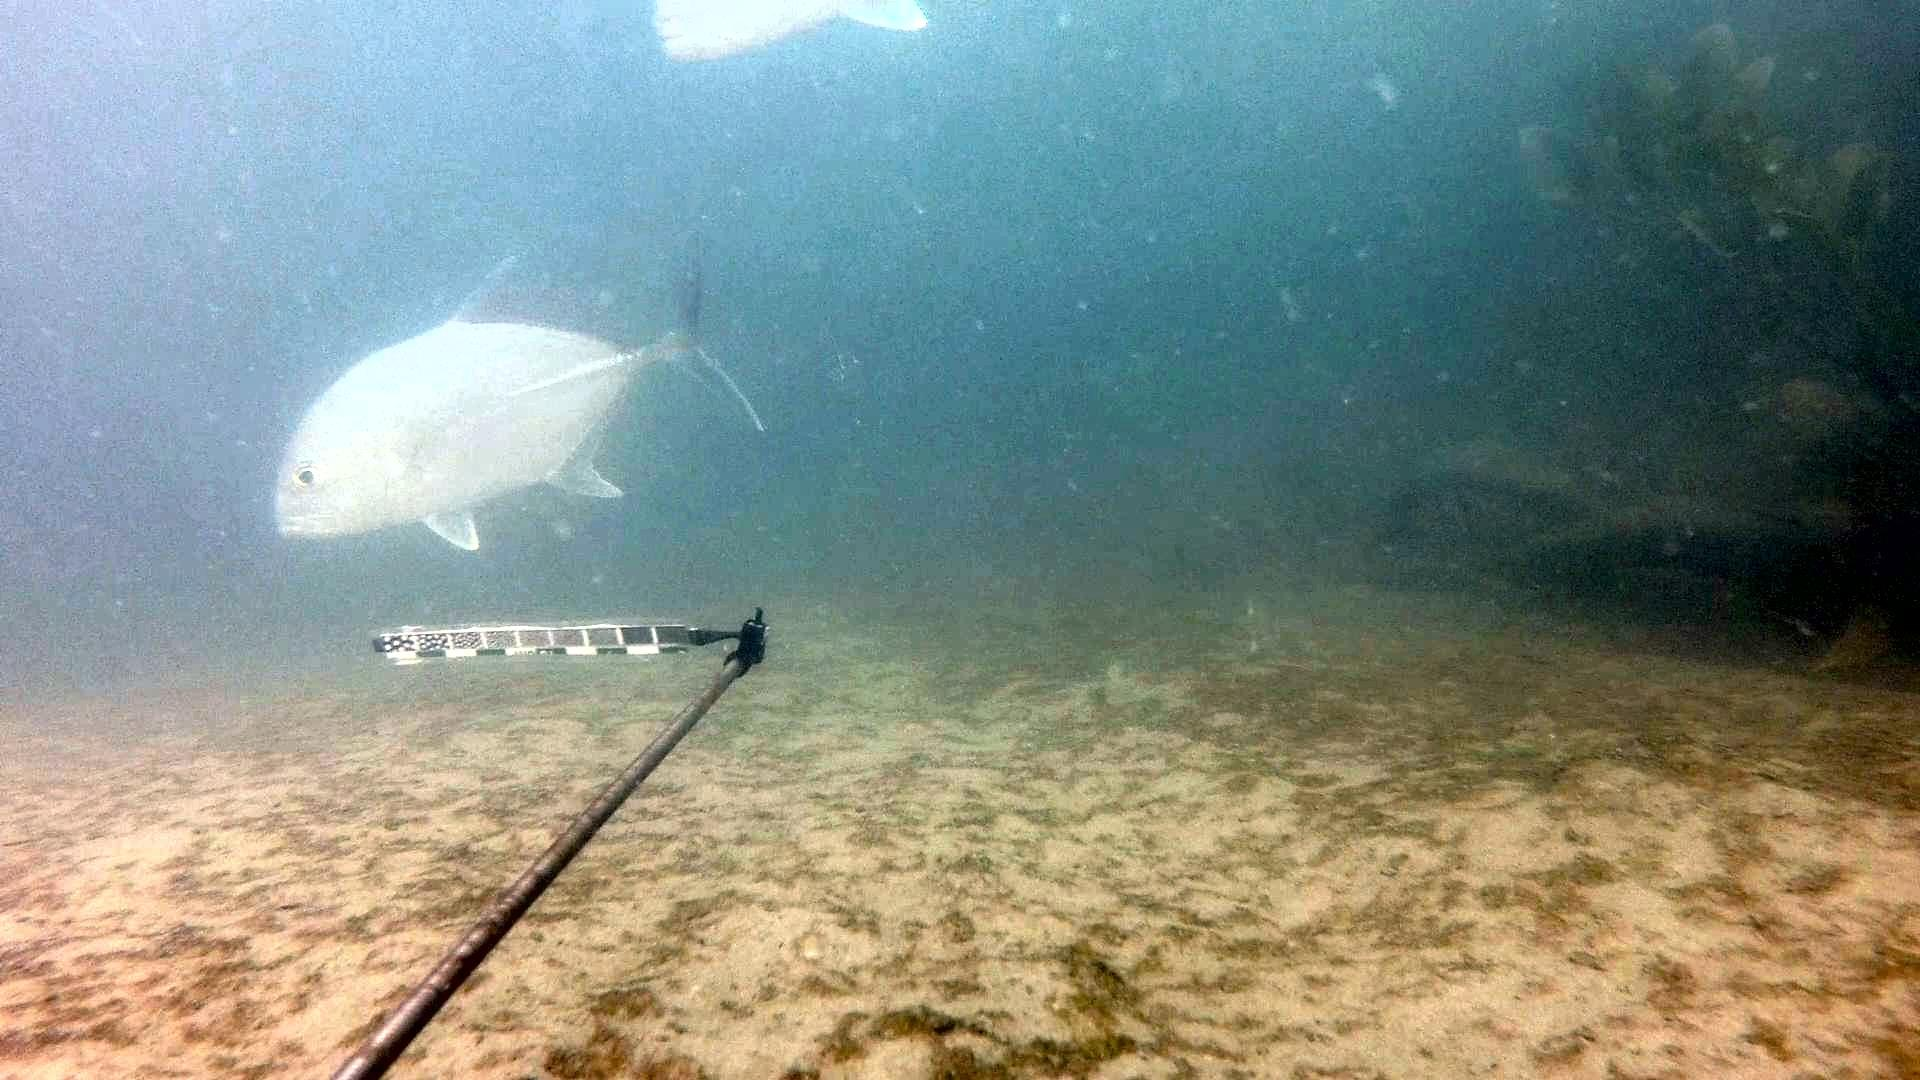caranx: (262, 225, 795, 559)
